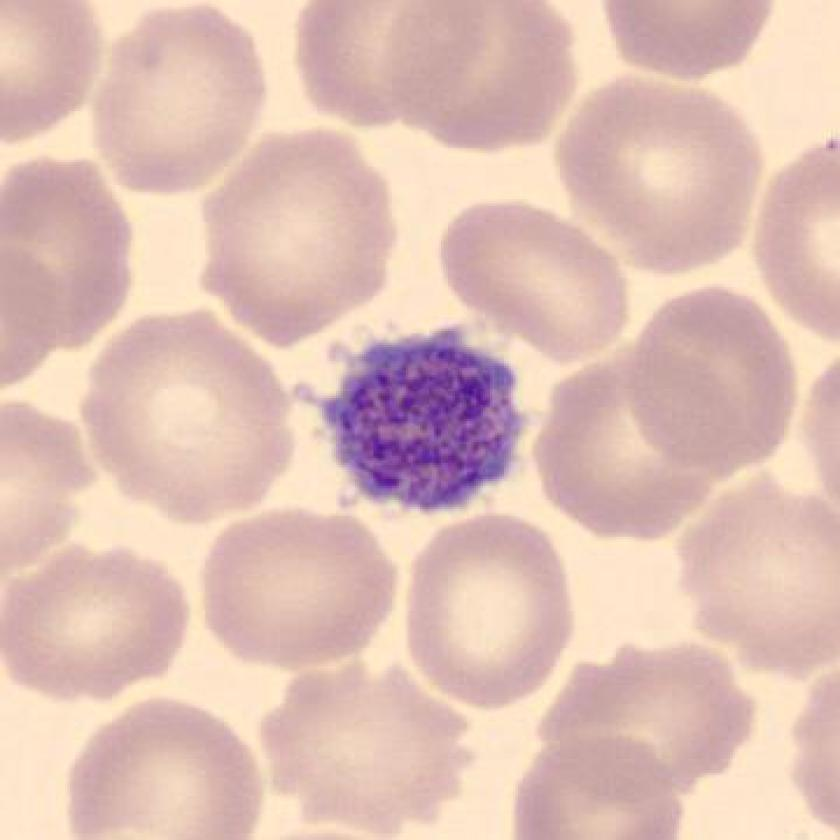platelets: (304, 313, 538, 522)
